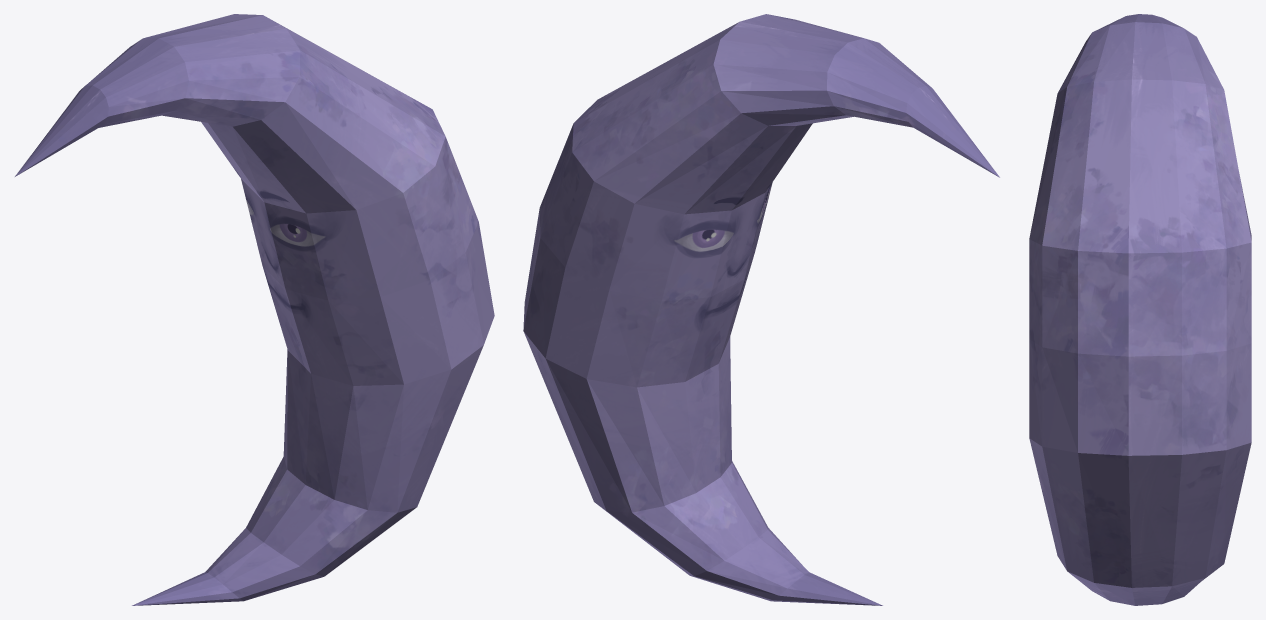
Rendered from Moon.fbx.
3 views of the same model, side by side, from view 1: azimuth 30°, elevation 25°; view 2: azimuth 150°, elevation 25°; view 3: azimuth 270°, elevation 25° (orthographic). The views are drawn at different scales.
Visible parts, largest first — view 1: Moon; view 2: Moon; view 3: Moon.
Boxes of the visible parts, bbox=[...] form: Moon: bbox=[15, 14, 494, 605]; Moon: bbox=[523, 14, 999, 605]; Moon: bbox=[1029, 14, 1251, 605].
Size of the model in its own units: 38.28 by 45.12 by 17.07.
